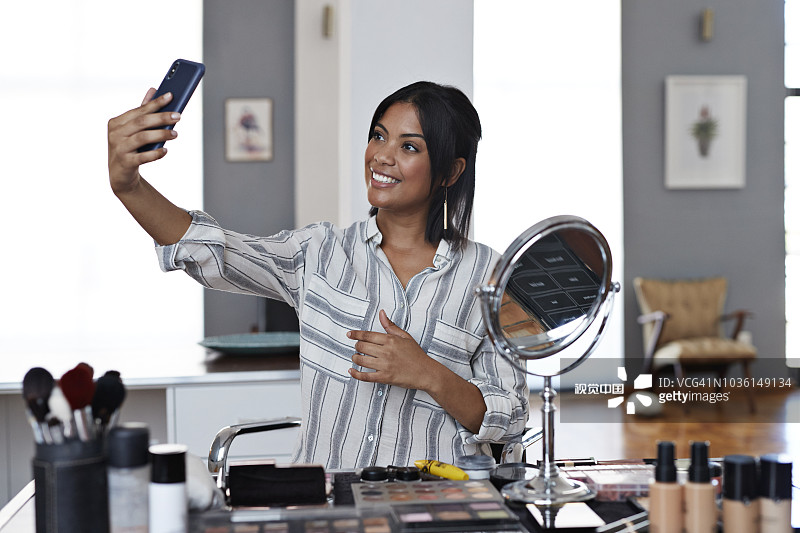no-phone: (328, 301, 462, 405)
taking photos: (91, 47, 193, 209)
